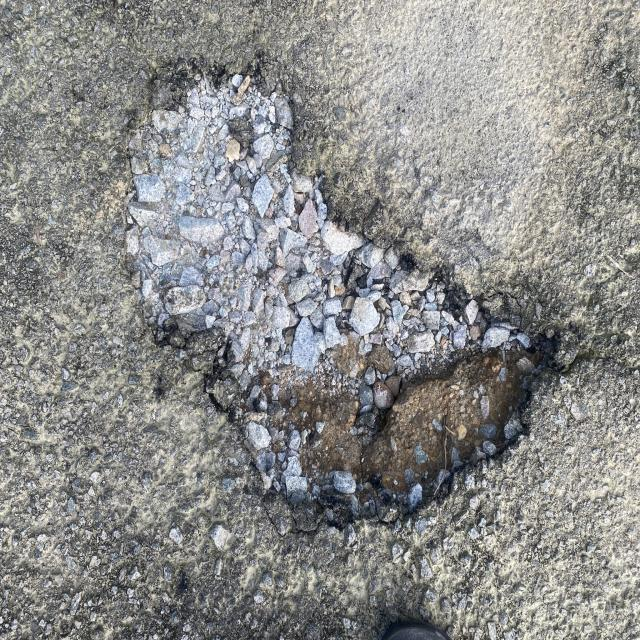Pothole: (107, 31, 564, 591)
